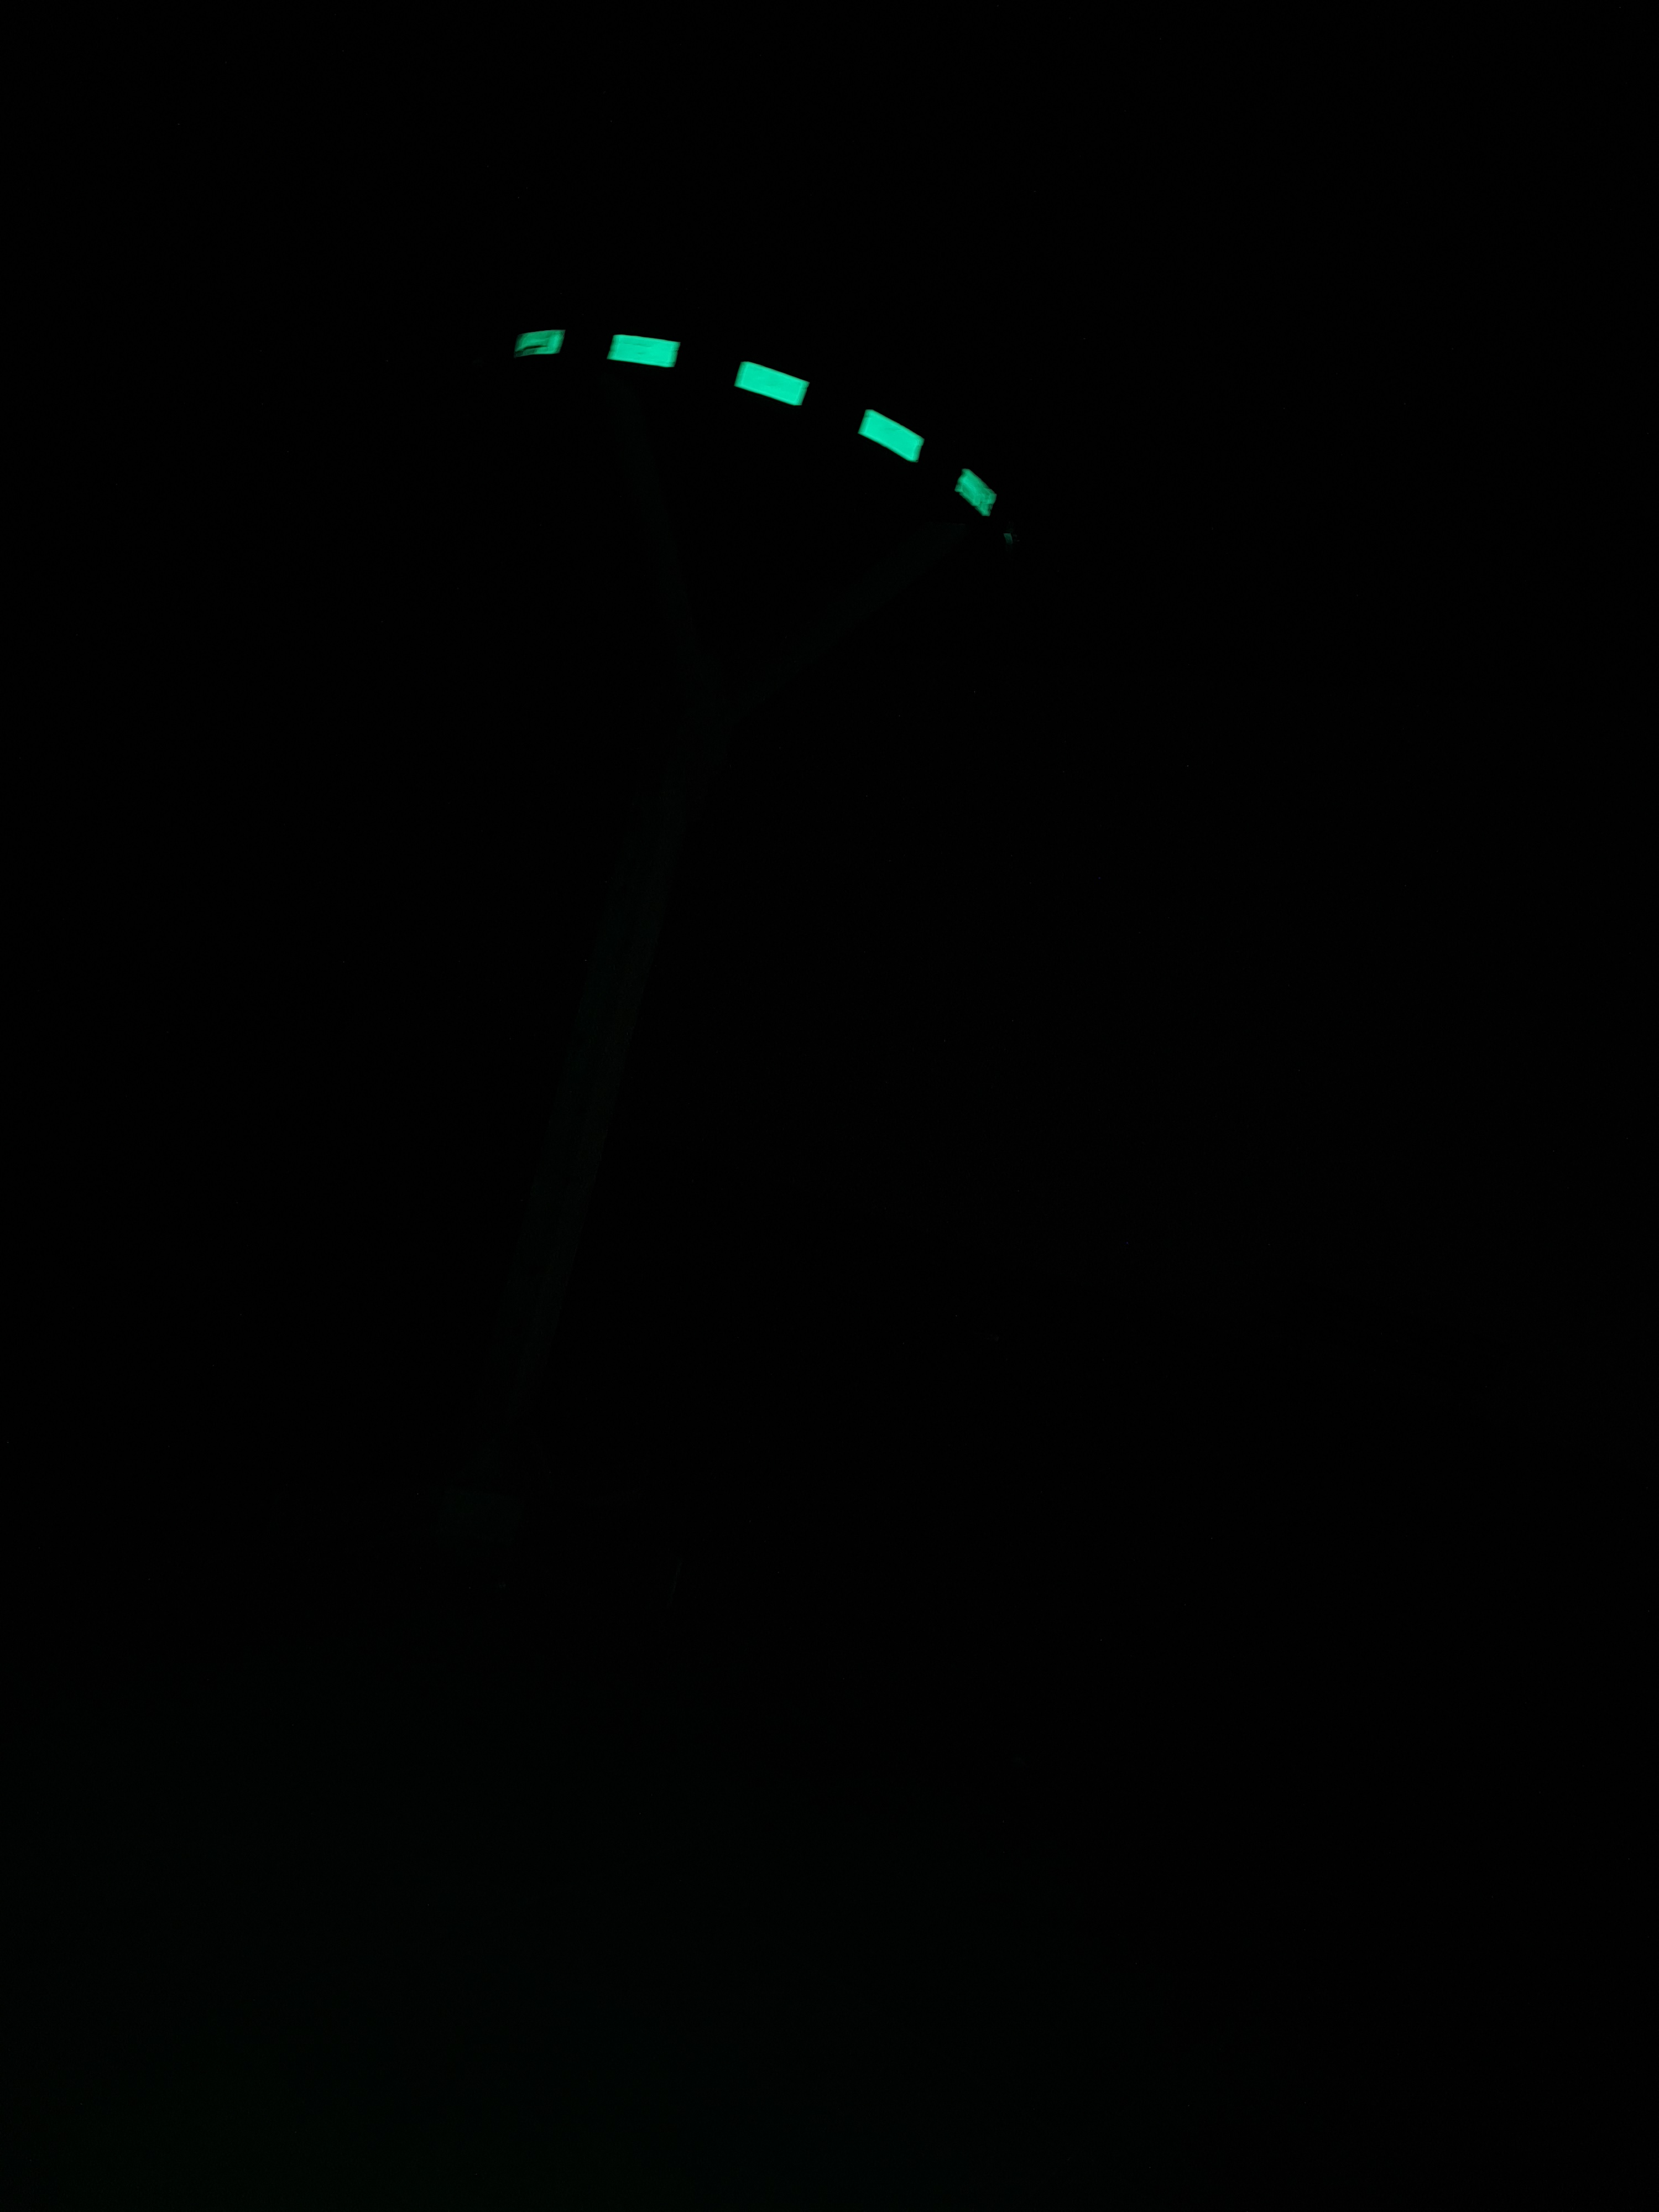hoop: (516, 322, 999, 526)
